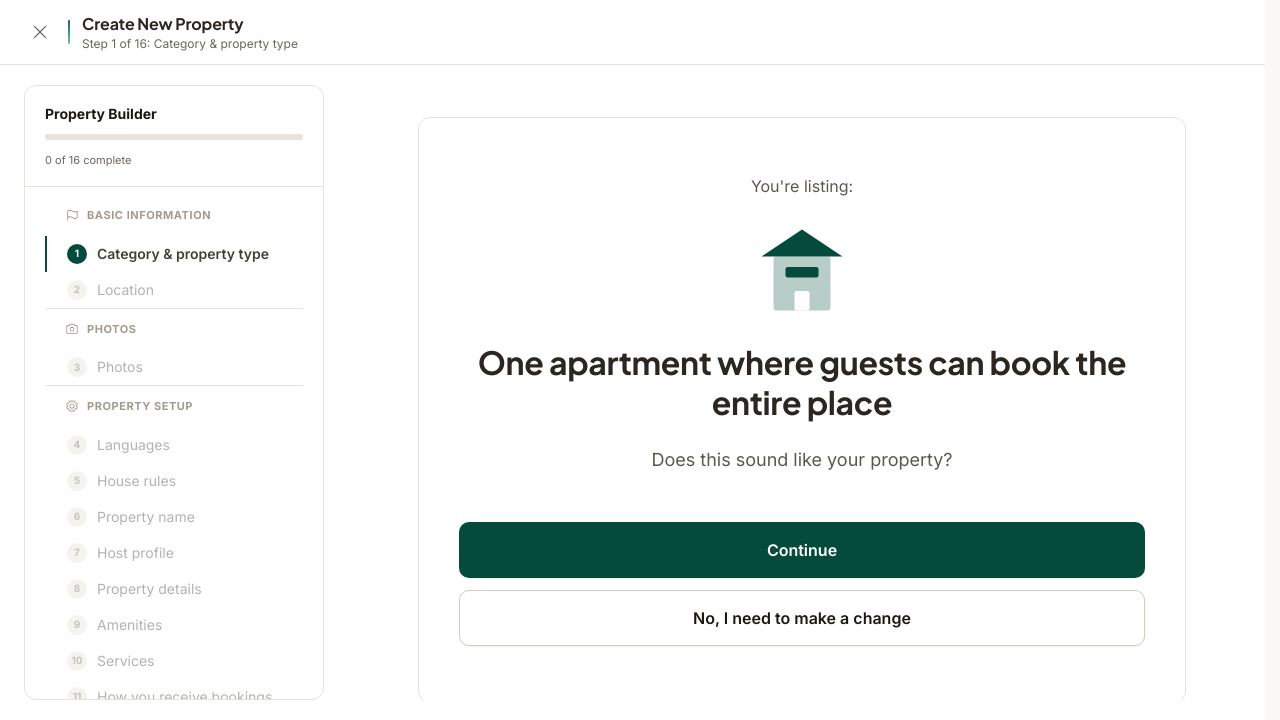
Test case: PropertyConfirmPage — One apartment confirmation › returns to the scope screen with the answer kept
Click the button "No, I need to make a change".
click(802, 618)  # box [459,590,1145,646]
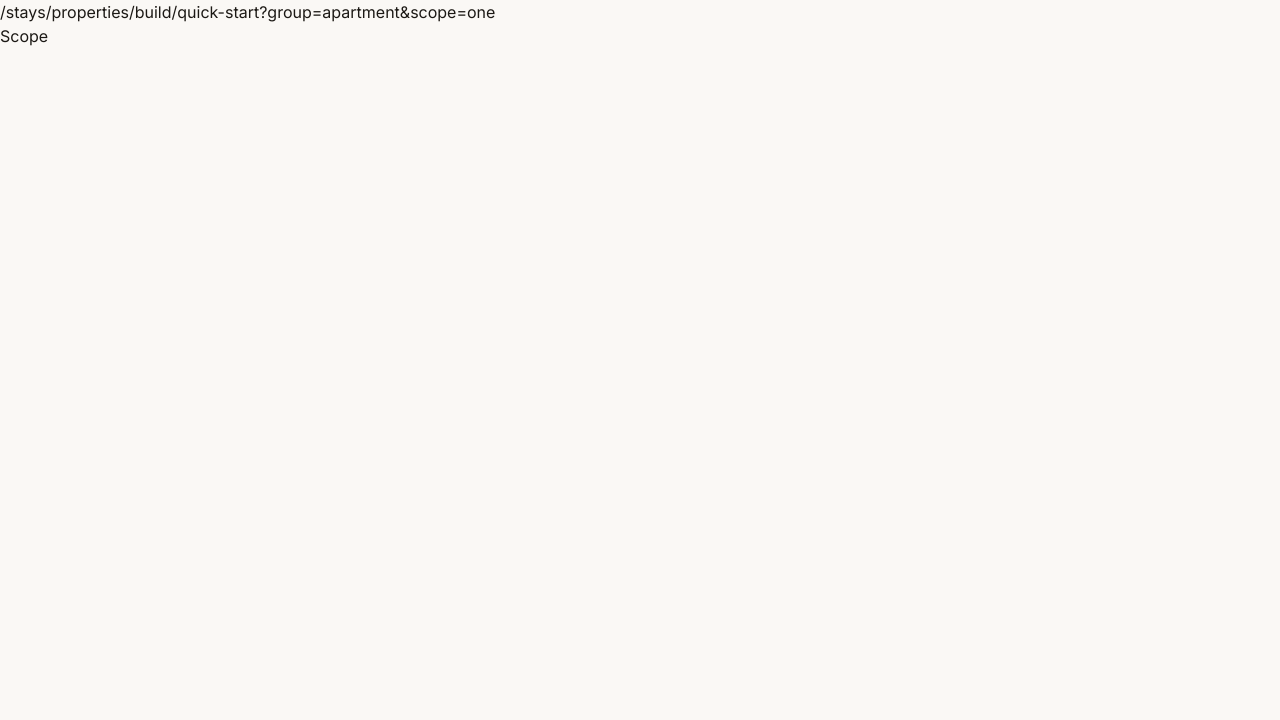
Expected: the text with test id "location" reads "/stays/properties/build/quick-start?group=apartment&scope=one", [0,2,495,22]
Expected: the text "Scope" is shown, [0,26,48,46]
